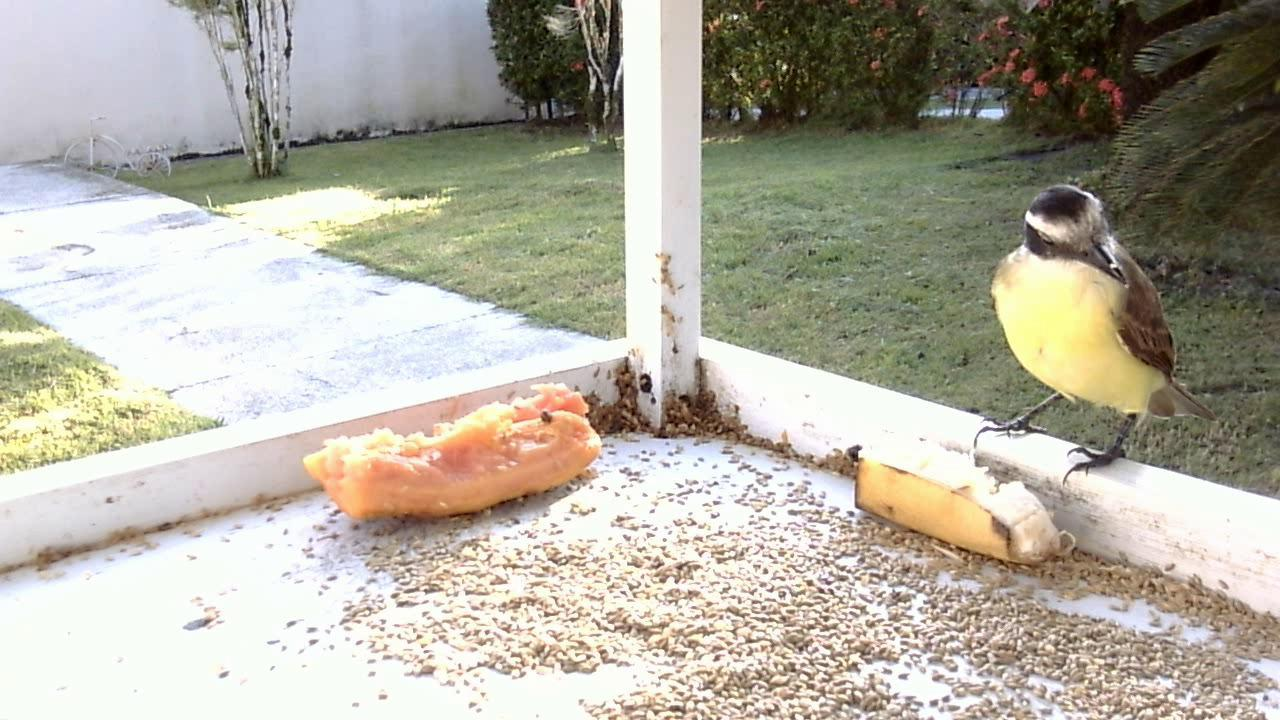bem_te_vi: (961, 179, 1224, 496)
